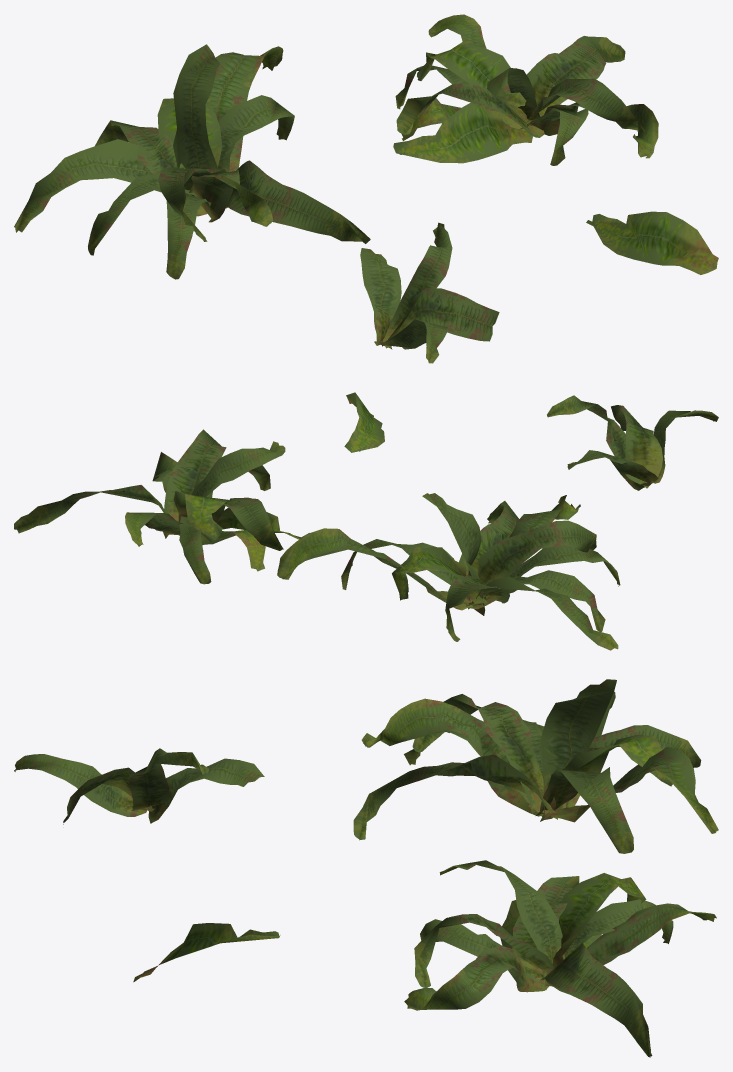
File: fern_02_lo.glb
The picture shows the model from 3 angles, top to bottom: view 1: azimuth 30°, elevation 25°; view 2: azimuth 150°, elevation 25°; view 3: azimuth 270°, elevation 25°; orthographic projection. The views are drawn at different scales.
Visible parts, largest first — view 1: fern_02_b, fern_02_c, fern_02_a, fern_02_d; view 2: fern_02_b, fern_02_c, fern_02_a, fern_02_d; view 3: fern_02_b, fern_02_c, fern_02_a, fern_02_d.
Part boxes in pixels (x1=…): fern_02_b: x1=14, y1=44, x2=370, y2=279; fern_02_c: x1=393, y1=14, x2=658, y2=165; fern_02_a: x1=360, y1=222, x2=499, y2=363; fern_02_d: x1=586, y1=211, x2=718, y2=274; fern_02_b: x1=277, y1=493, x2=620, y2=650; fern_02_c: x1=14, y1=429, x2=309, y2=584; fern_02_a: x1=547, y1=395, x2=718, y2=490; fern_02_d: x1=344, y1=392, x2=384, y2=452; fern_02_b: x1=353, y1=679, x2=718, y2=853; fern_02_c: x1=404, y1=860, x2=716, y2=1057; fern_02_a: x1=14, y1=748, x2=264, y2=824; fern_02_d: x1=133, y1=923, x2=280, y2=982.
Size of the model in its own units: 1.97 by 0.426 by 1.72.
1 material, 1 textured.
